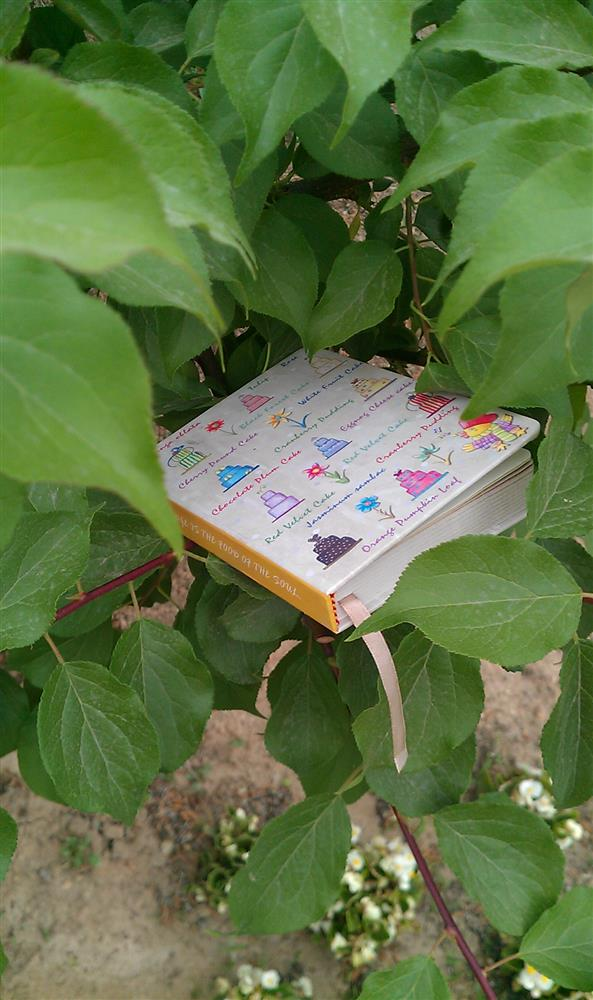notebook: (123, 303, 554, 651)
